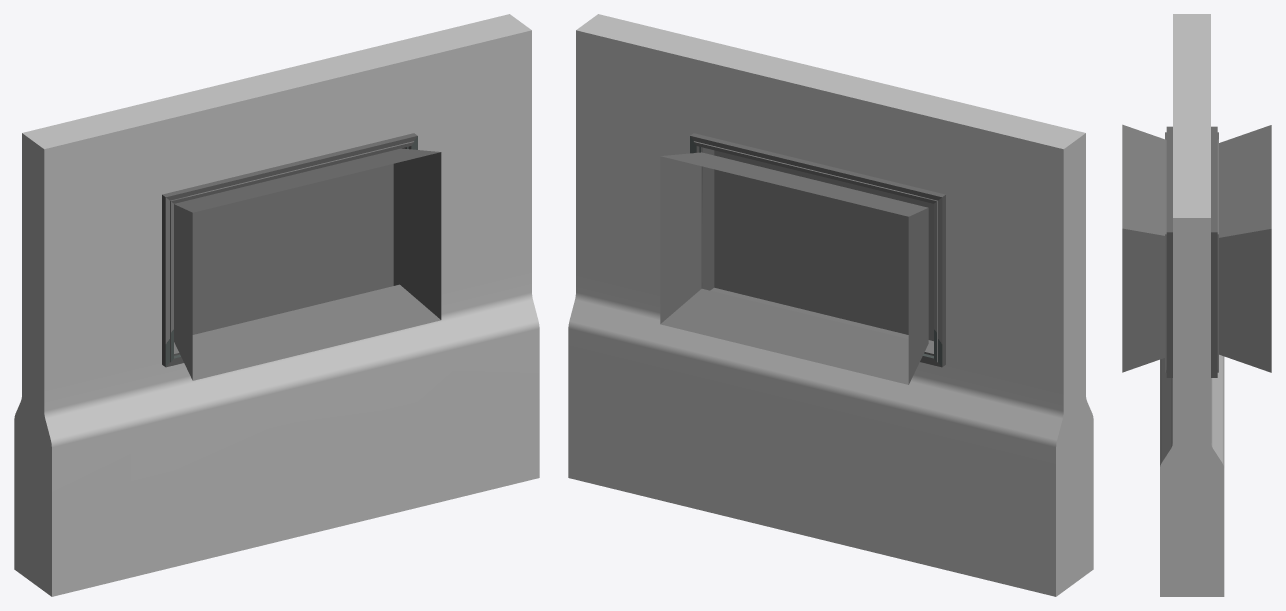
The model's file is Env_Wall_03.fbx.
3 views of the same model, side by side, from view 1: azimuth 30°, elevation 25°; view 2: azimuth 150°, elevation 25°; view 3: azimuth 270°, elevation 25° (orthographic). The views are drawn at different scales.
Visible parts, largest first — view 1: Env_Wall_03, Env_FakeFog_14; view 2: Env_Wall_03, Env_FakeFog_15; view 3: Env_Wall_03, Env_FakeFog_15, Env_FakeFog_14.
Part boxes in pixels (<box>): Env_Wall_03: <box>14,14,539,596</box>; Env_FakeFog_14: <box>174,148,441,380</box>; Env_Wall_03: <box>568,14,1093,596</box>; Env_FakeFog_15: <box>660,152,928,384</box>; Env_Wall_03: <box>1160,14,1224,596</box>; Env_FakeFog_15: <box>1219,125,1271,372</box>; Env_FakeFog_14: <box>1122,124,1164,372</box>.
Size of the model in its own units: 300 by 260 by 92.77.
